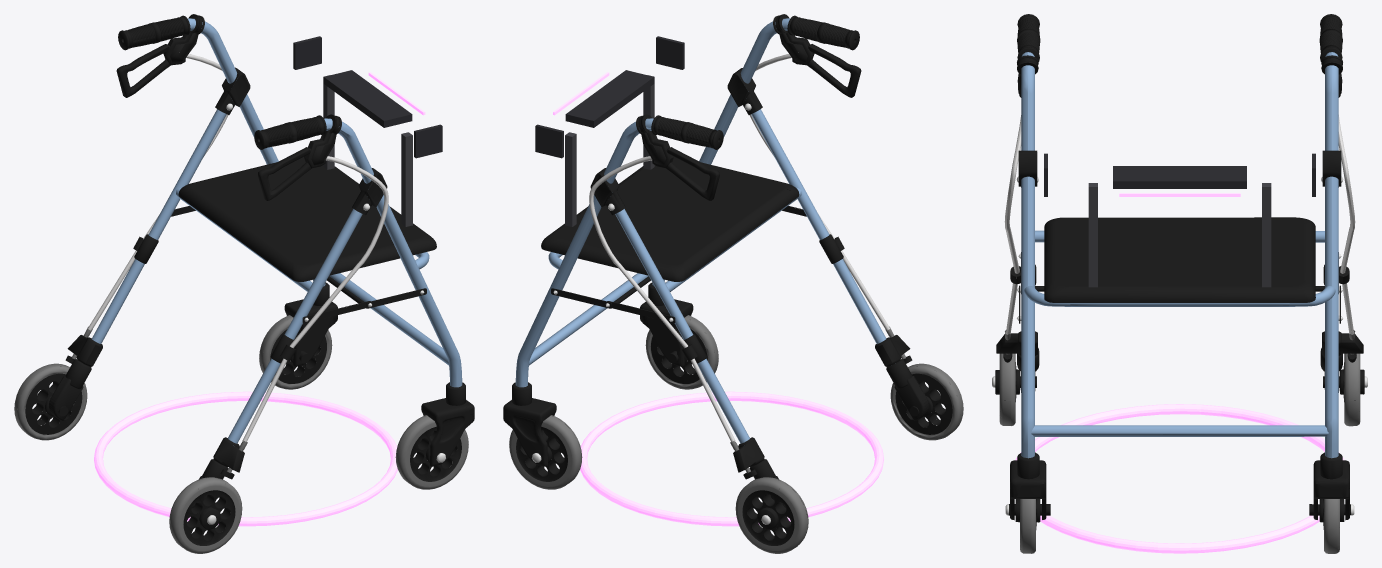
File: rollator.glb
3 renders of one model, left to right at view 1: azimuth 30°, elevation 25°; view 2: azimuth 150°, elevation 25°; view 3: azimuth 270°, elevation 25°, orthographic. The views are drawn at different scales.
Visible parts, largest first — view 1: Symmetry_8__0, Rollator_UnderglowRing, Spoiler_Wing, Spoiler_Strut_0, Spoiler_Endplate_1, Spoiler_Endplate_0; view 2: Symmetry_8__0, Rollator_UnderglowRing, Spoiler_Wing, Spoiler_Strut_1, Spoiler_Endplate_0, Spoiler_Endplate_1; view 3: Symmetry_8__0, Rollator_UnderglowRing, Spoiler_Wing, Spoiler_Strut_0, Spoiler_Strut_1, Spoiler_Stripe.
Boxes of the visible parts, x1,y1,x2,y2 form: Symmetry_8__0: (14,14,474,553); Rollator_UnderglowRing: (94,391,397,526); Spoiler_Wing: (323,70,412,127); Spoiler_Strut_0: (401,132,412,226); Spoiler_Endplate_1: (293,36,321,69); Spoiler_Endplate_0: (414,124,442,158); Symmetry_8__0: (503,14,963,553); Rollator_UnderglowRing: (580,391,883,526); Spoiler_Wing: (565,70,654,127); Spoiler_Strut_1: (565,132,576,226); Spoiler_Endplate_0: (656,36,684,69); Spoiler_Endplate_1: (535,124,563,158); Symmetry_8__0: (992,14,1367,553); Rollator_UnderglowRing: (1015,404,1344,553); Spoiler_Wing: (1113,166,1246,188); Spoiler_Strut_0: (1088,183,1097,287); Spoiler_Strut_1: (1262,183,1271,287); Spoiler_Stripe: (1119,193,1240,196).
Size of the model in its own units: 0.9233 by 1.15 by 0.8837.
